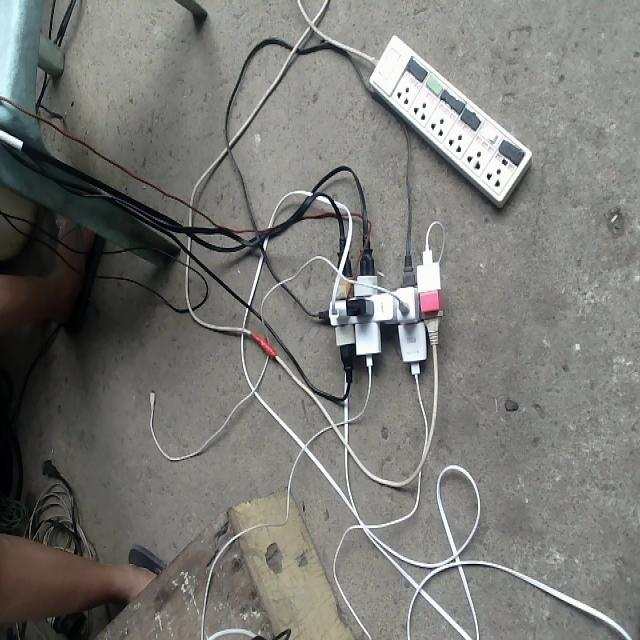-: (312, 229, 442, 384)
